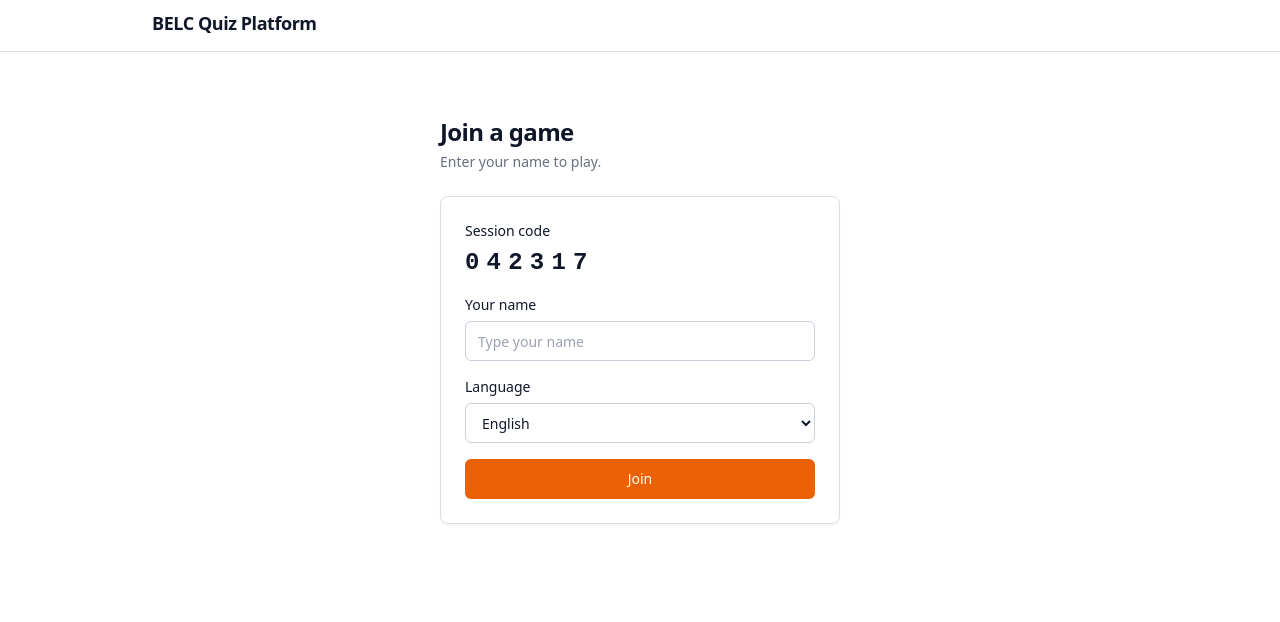
Test: PlaySessionPage › tells a player with no credential to ask the host, rather than letting the name in
Type "Aman" into the field labelled "Your name".
click(640, 341); type("Aman")  # box [465,321,815,361]
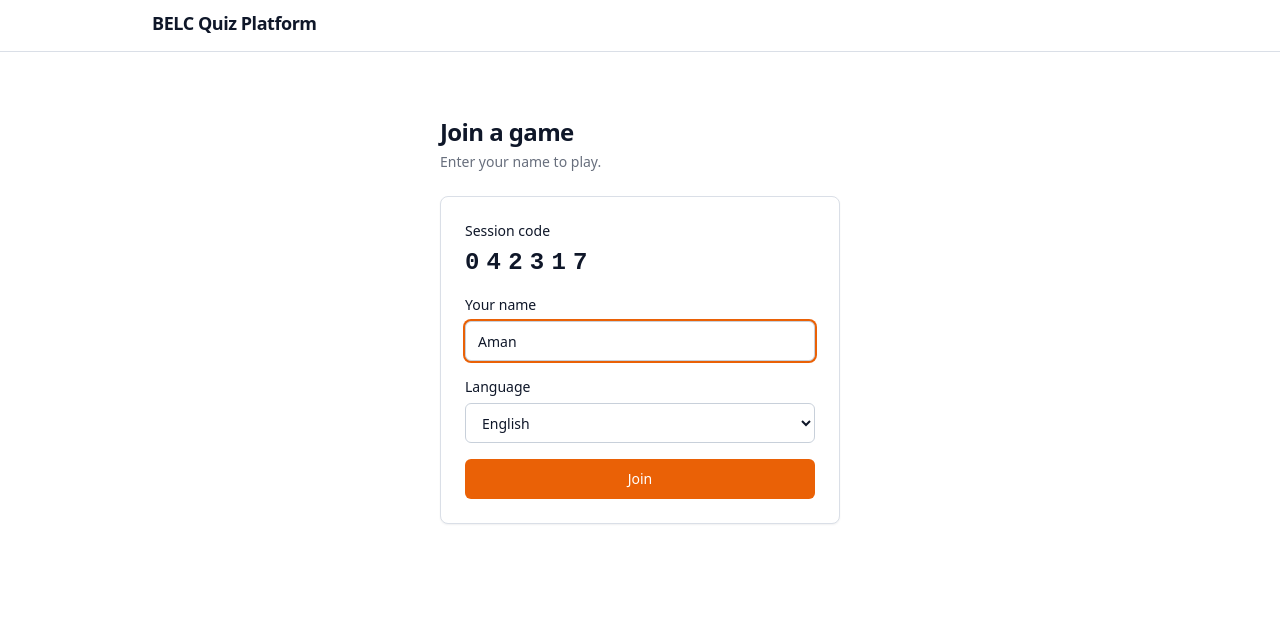
Click the button "Join".
click(640, 479)  # box [465,459,815,499]
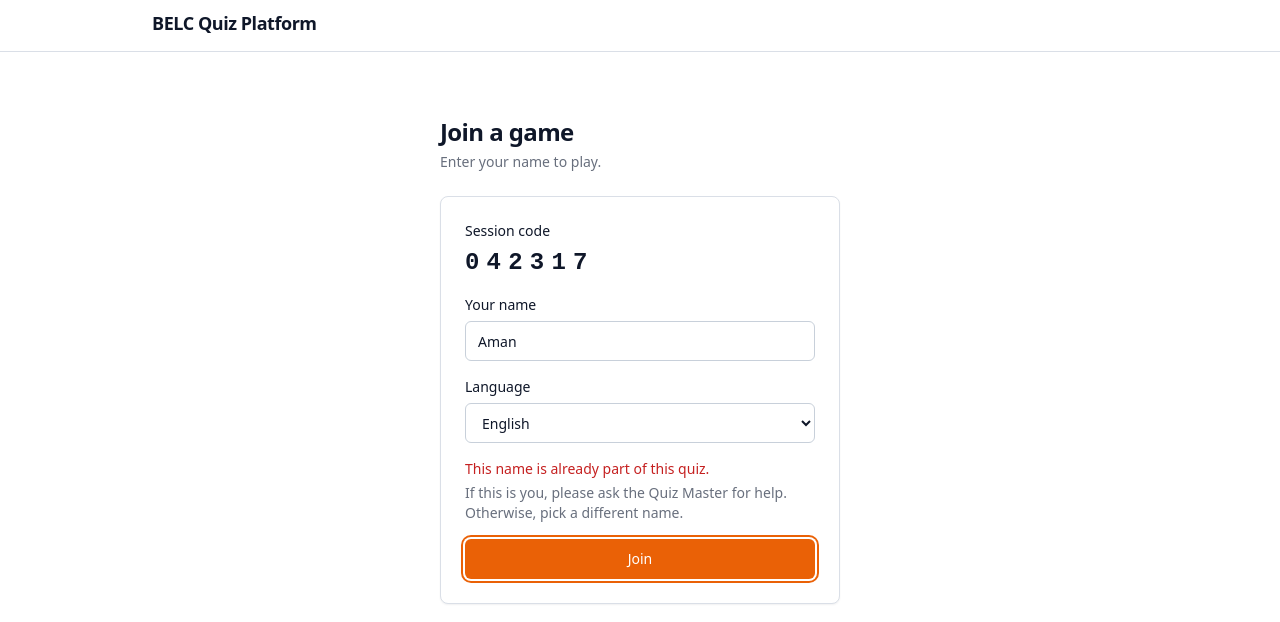
Now the message shows "This name is already part of this quiz.", box [465,459,709,478]
Now the message shows "ask the Quiz Master for help", box [465,483,787,522]
